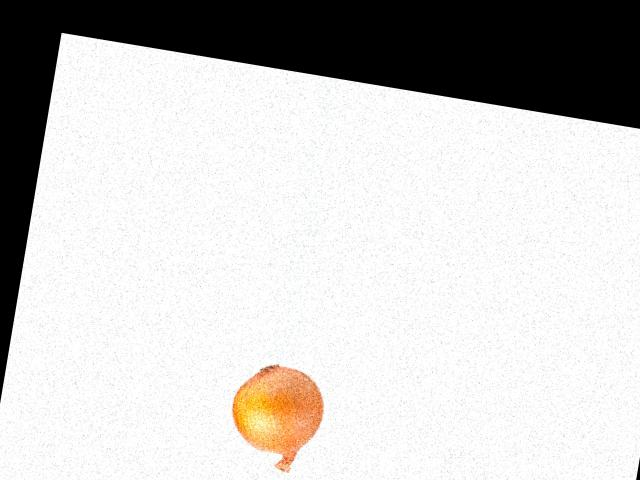onion: (224, 360, 331, 464)
